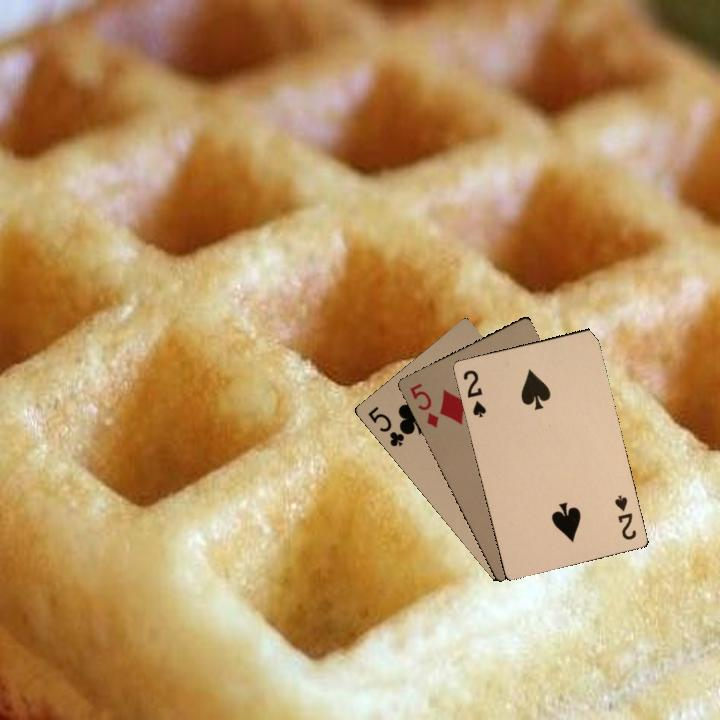2s: (459, 366, 489, 419), (610, 491, 639, 542)
5c: (364, 402, 409, 449)
5d: (406, 379, 442, 430)
